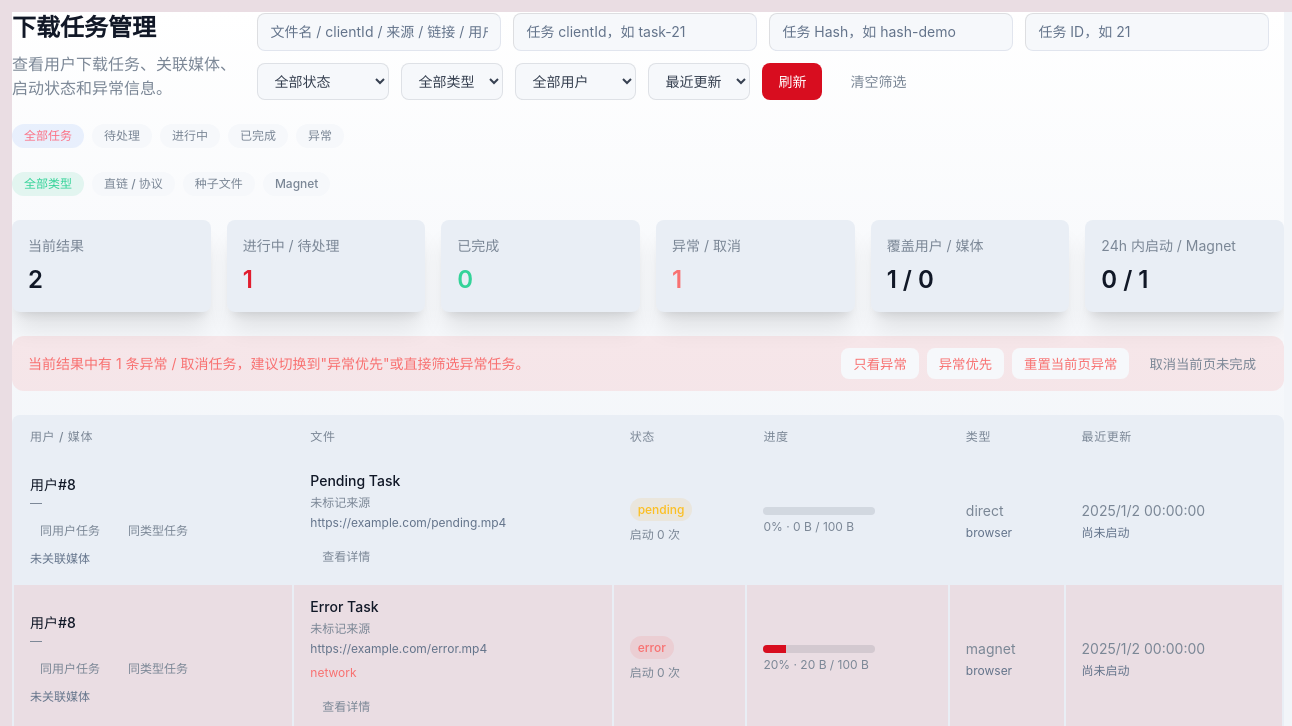
Test: AdminDownloadTasksView › cancels visible unfinished tasks from the exception banner
Click the button "取消当前页未完成" at (1203, 364), box [1137,348,1268,379]
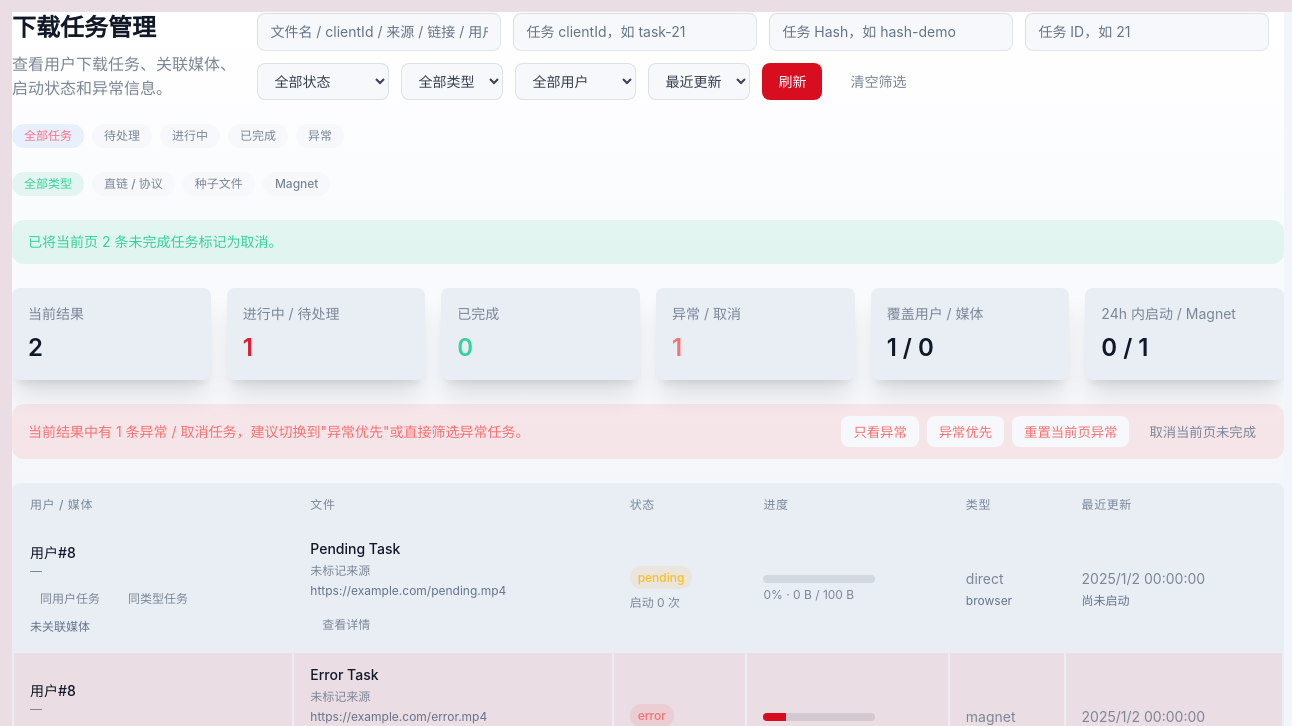
Now the text "已将当前页 2 条未完成任务标记为取消" is shown, box [28,233,282,250]
